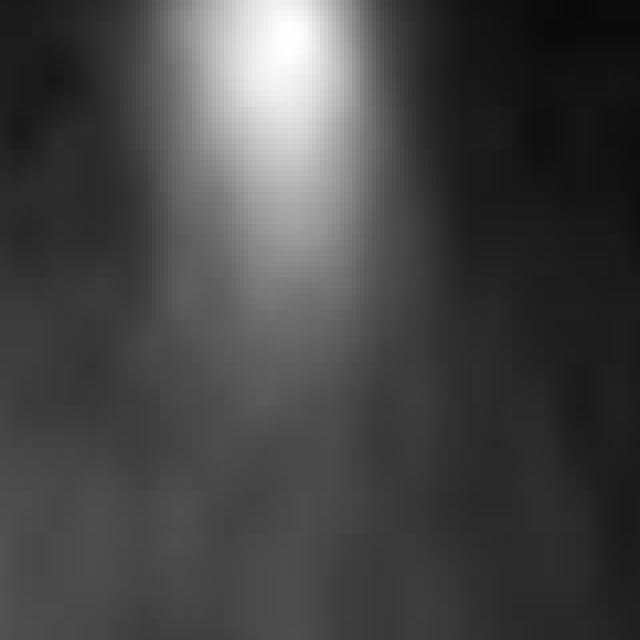person: (165, 1, 369, 401)
